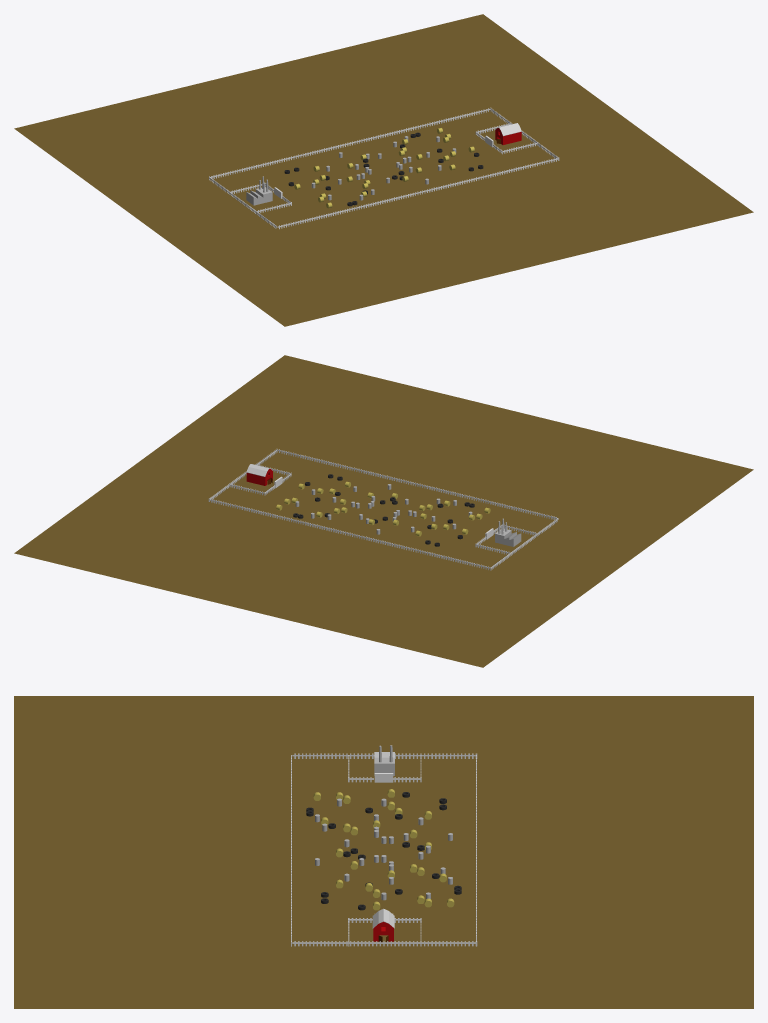
The model's file is Map9.fbx.
3 views of the same model, one above another, from view 1: azimuth 30°, elevation 25°; view 2: azimuth 150°, elevation 25°; view 3: azimuth 270°, elevation 25° (orthographic). The views are drawn at different scales.
Visible parts, largest first — view 1: Terrain, Barrieres, Obstacles; view 2: Terrain, Barrieres, Obstacles; view 3: Terrain, Obstacles, Barrieres, Ferme.
Part boxes in pixels (x1,y1,x2,y2): Terrain: (14, 14, 753, 326); Barrieres: (209, 107, 559, 229); Obstacles: (284, 128, 483, 208); Terrain: (14, 355, 753, 667); Barrieres: (208, 449, 558, 570); Obstacles: (276, 474, 490, 546); Terrain: (14, 696, 753, 1008); Obstacles: (306, 789, 461, 910); Barrieres: (291, 753, 477, 946); Ferme: (372, 908, 394, 942).
Bounding box in the file's own units: 200 × 9.78 × 200.
